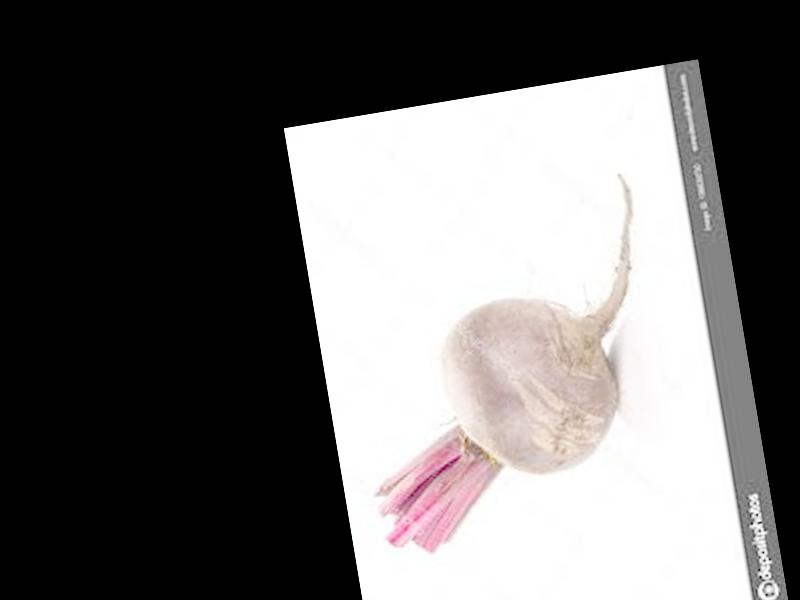Beet: (330, 172, 682, 557)
